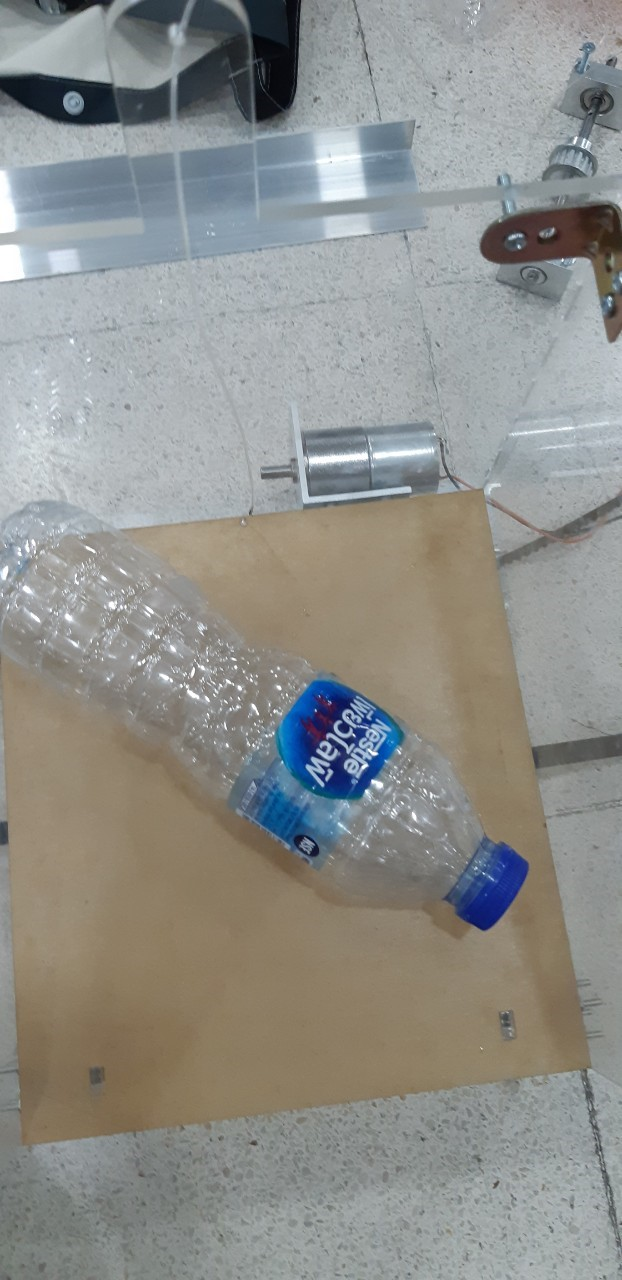PlasticBottle: (1, 503, 530, 939)
